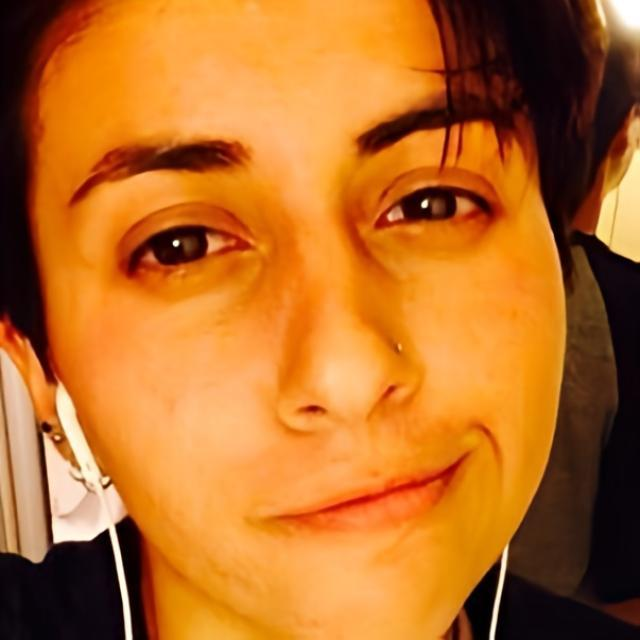content: (23, 0, 569, 640)
